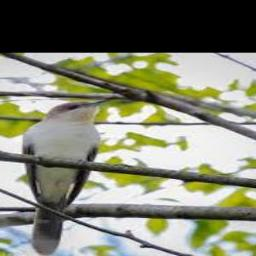Cuckoo: (24, 100, 113, 255)
